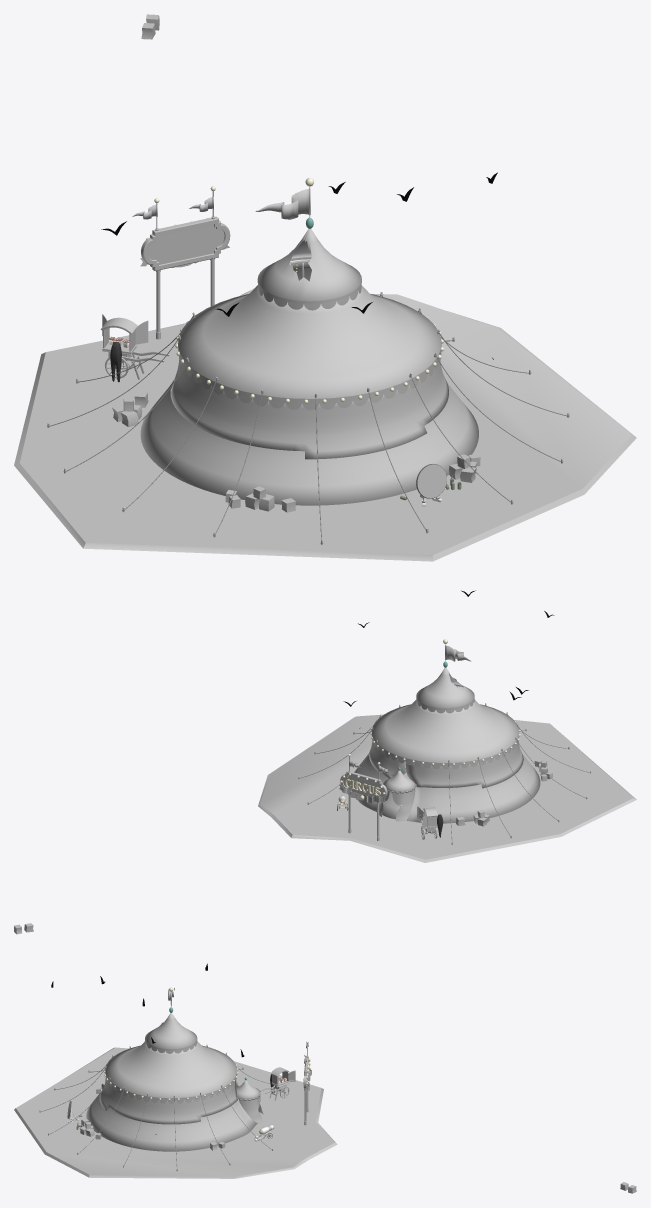
Rendered from tent ripped.fbx.
3 renders of one model, top to bottom at view 1: azimuth 30°, elevation 25°; view 2: azimuth 150°, elevation 25°; view 3: azimuth 270°, elevation 25°, orthographic. The views are drawn at different scales.
Parts seen in each view (by area): view 1: polySurface342, polySurface2, polySurface1, pCylinder2, pCylinder134, pCylinder133, pCylinder52, polySurface3, pCube1, polySurface355; view 2: polySurface342, polySurface2, polySurface1, pCylinder2, pCylinder208; view 3: polySurface342, polySurface2, polySurface1, pCylinder2, pCylinder52, polySurface3, pCylinder208.
Part boxes in pixels (x1,y1,x2,y2): polySurface342: (14, 288, 636, 561); polySurface2: (140, 360, 478, 505); polySurface1: (178, 262, 441, 398); pCylinder2: (257, 228, 361, 301); pCylinder134: (148, 224, 224, 264); pCylinder133: (141, 216, 230, 270); pCylinder52: (179, 352, 441, 410); polySurface3: (178, 343, 441, 403); pCube1: (255, 189, 310, 219); polySurface355: (417, 464, 446, 498); polySurface342: (258, 714, 636, 862); polySurface2: (354, 742, 540, 823); polySurface1: (371, 699, 519, 762); pCylinder2: (416, 667, 474, 708); pCylinder208: (379, 788, 415, 821); polySurface342: (14, 1047, 337, 1178); polySurface2: (86, 1079, 257, 1151); polySurface1: (105, 1041, 237, 1098); pCylinder2: (145, 1013, 197, 1049); pCylinder52: (105, 1077, 236, 1103); polySurface3: (105, 1073, 236, 1100); pCylinder208: (239, 1095, 262, 1123).
Bounding box in the file's own units: 5769 × 2711 × 10452.
